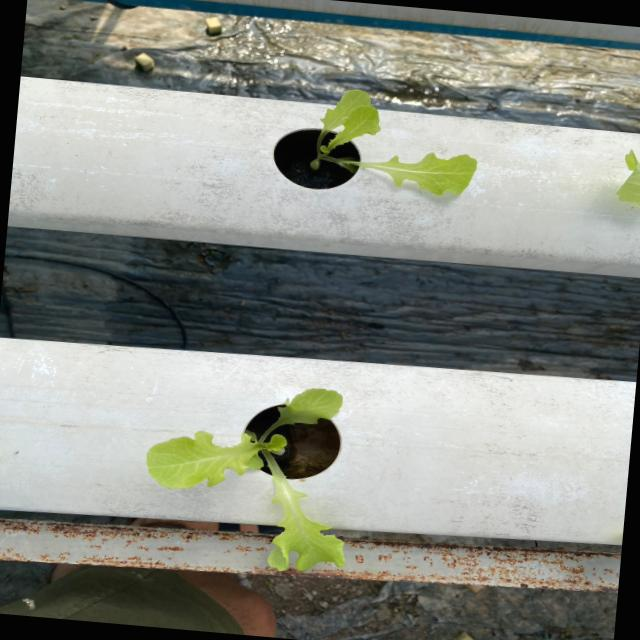Lettuce-Not-Ready-to-Harvest: (132, 363, 366, 582), (306, 76, 489, 210)
